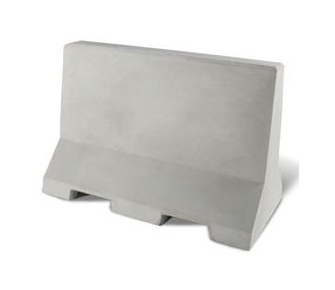Barrier: (18, 32, 319, 257)
